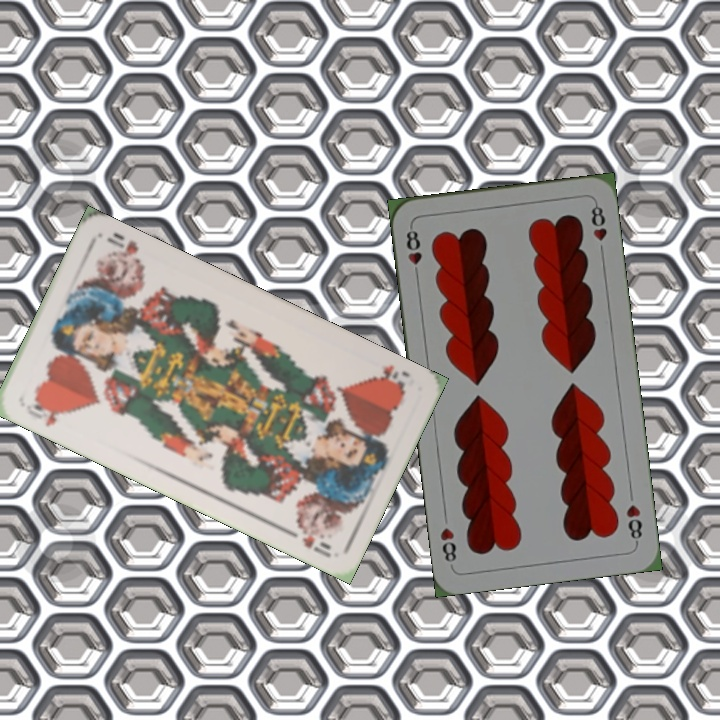H8: (402, 222, 425, 281), (622, 500, 645, 546)
HO: (369, 360, 413, 395), (29, 394, 69, 430)
